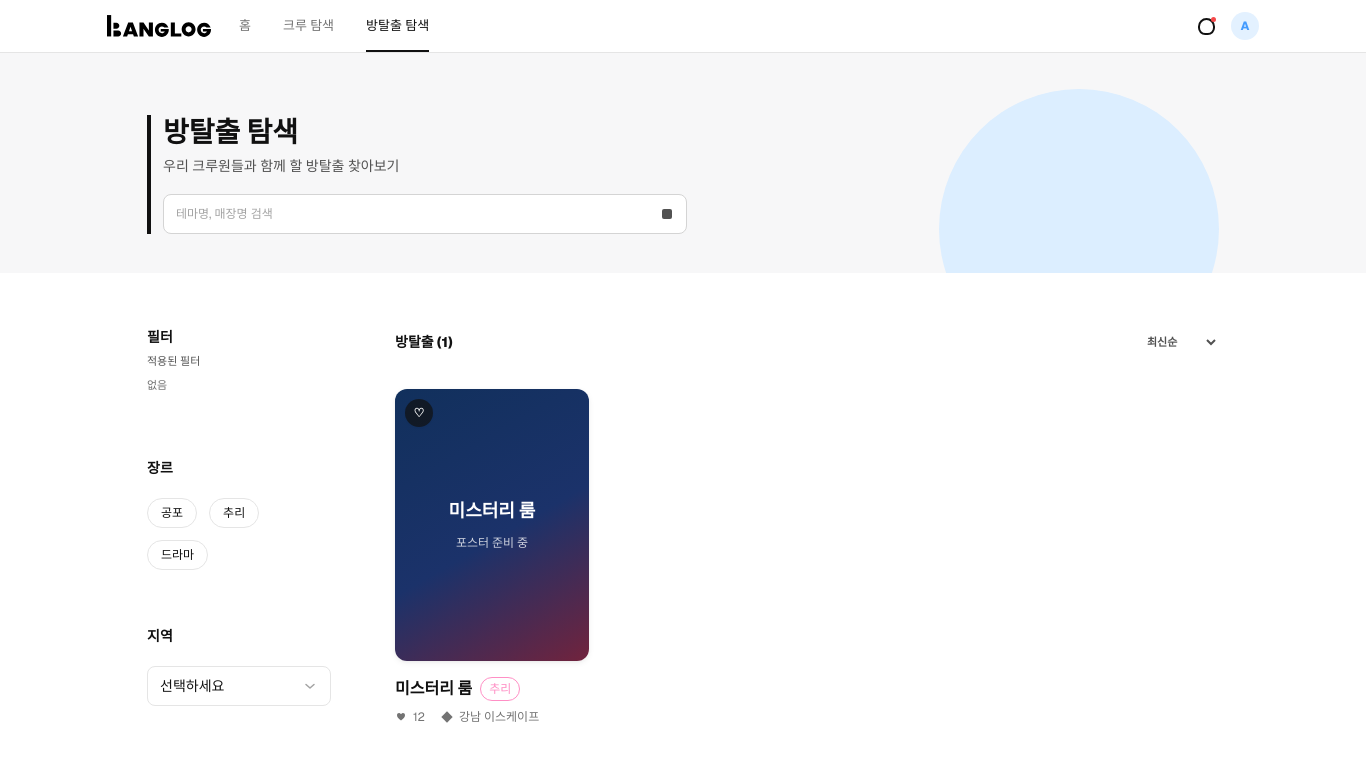
Test: ExplorePage › updates the card favorite state immediately after a successful toggle response
Click the button named "찜하기": {"x": 419, "y": 413} [405, 399, 433, 427]
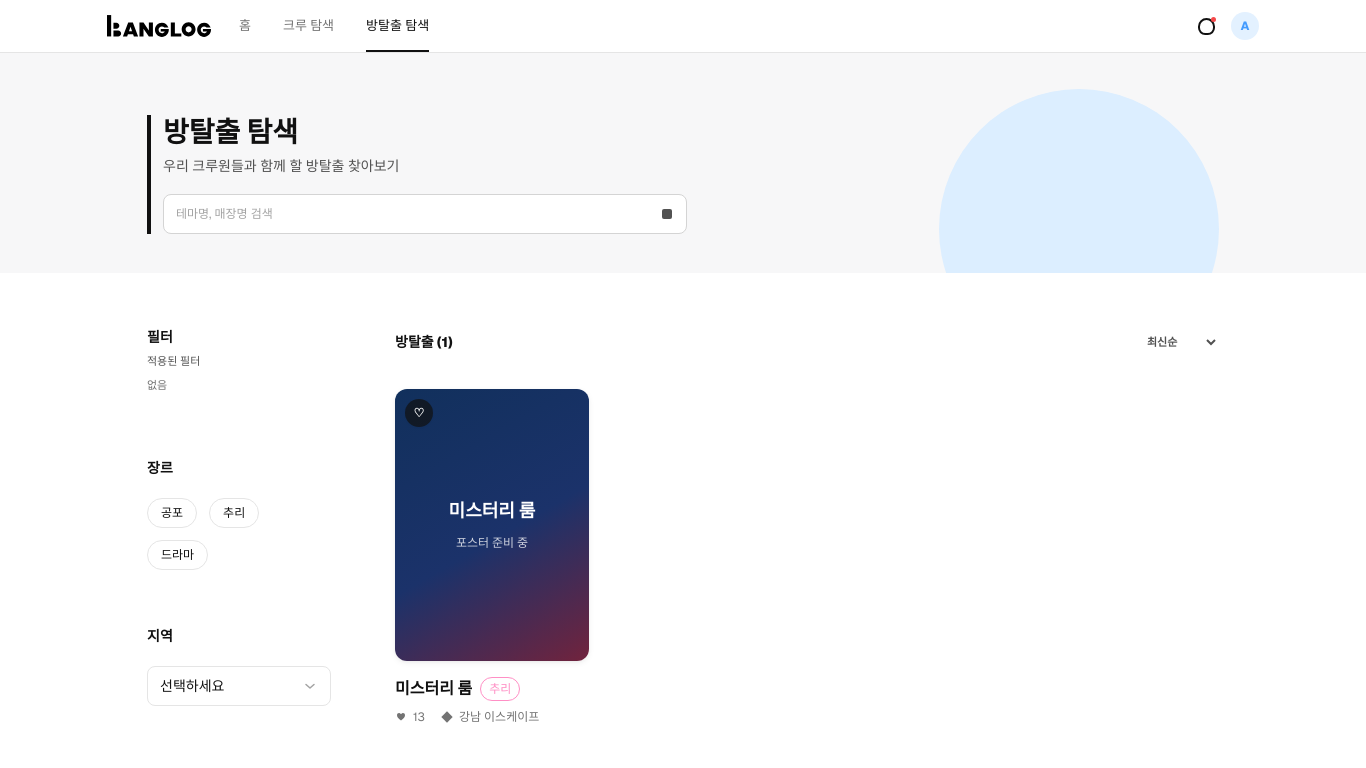
Expected: the element named "찜 13" is shown, [395, 709, 425, 725]
Click the button named "찜 해제": {"x": 419, "y": 413} [405, 399, 433, 427]
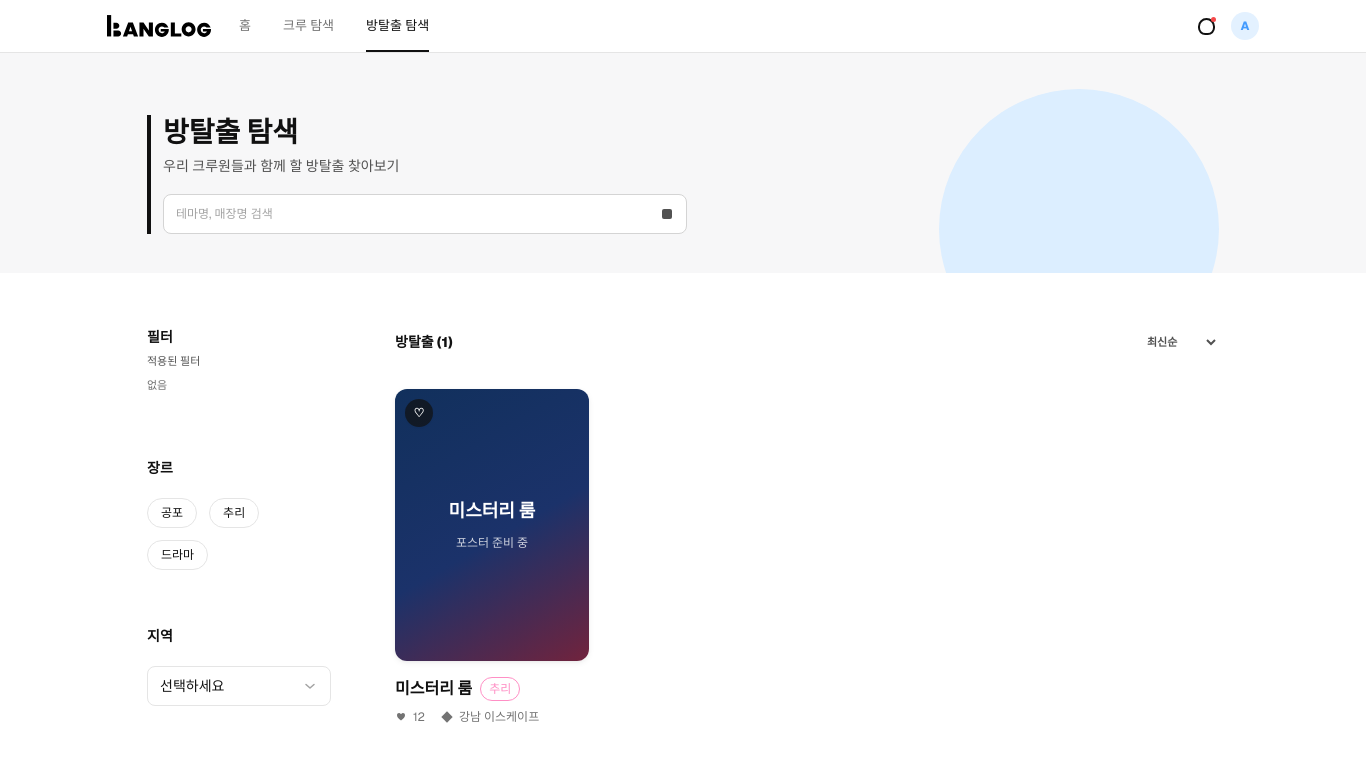
Expected: the element named "찜 12" is shown, [395, 709, 425, 725]
